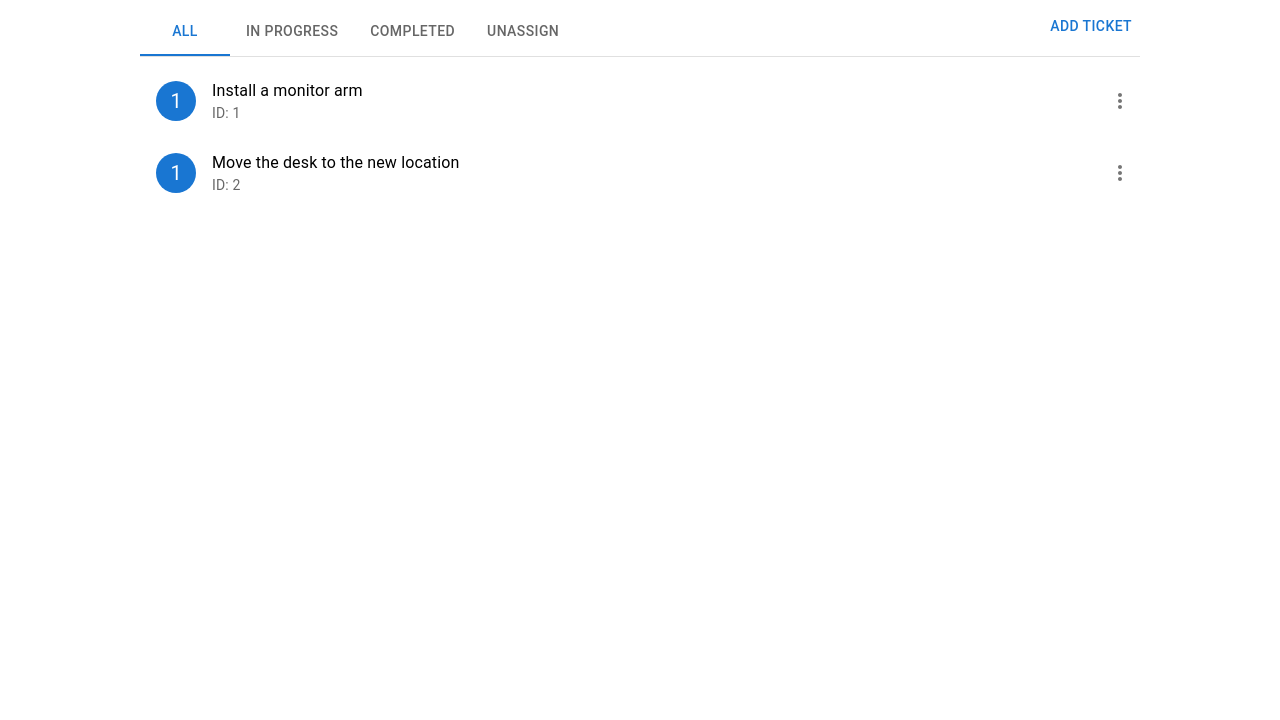
Test: Tickets Component › opens create ticket modal on button click
The image size is (1280, 720).
Click the button "Add Ticket" at (1091, 26), box top-left (1042, 8), bottom-right (1140, 44)
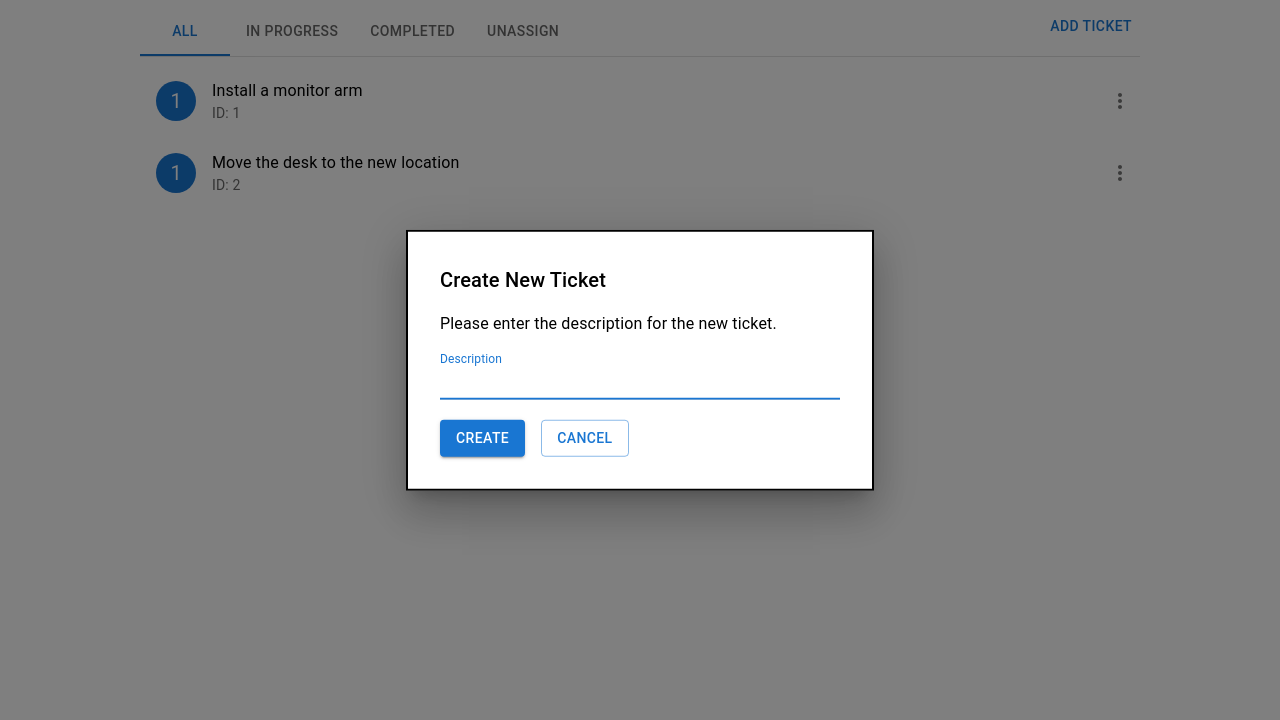
expect the element with test id "create-ticket-modal" is shown: met
